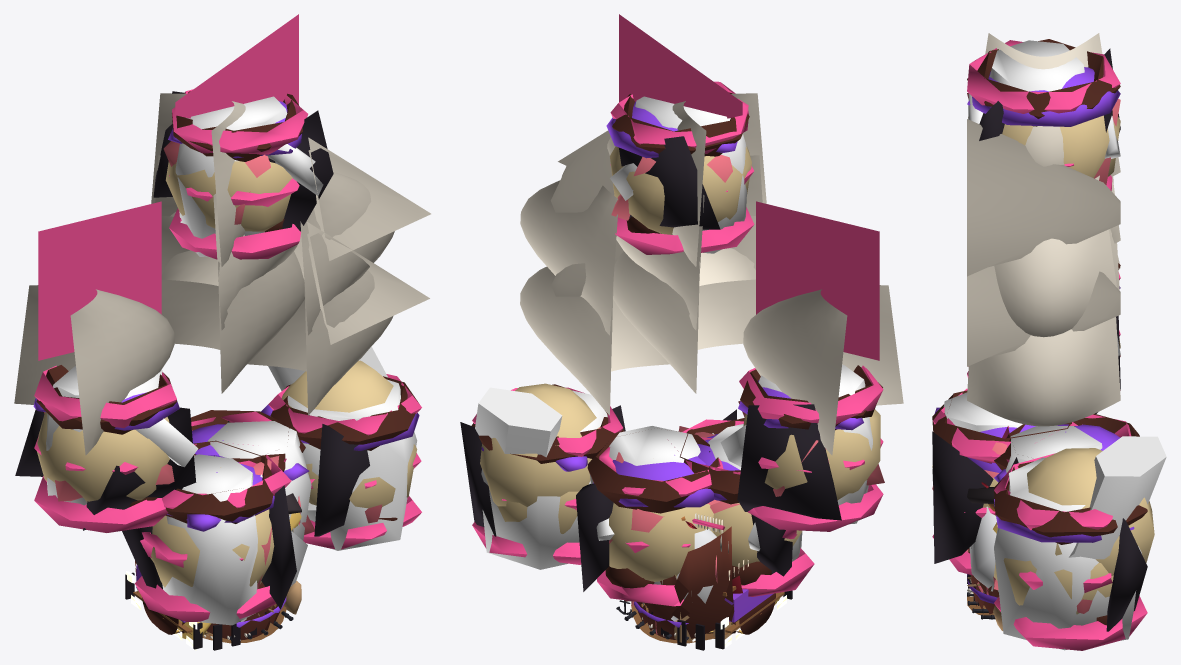
Rendered from navire-barhaw-leger.glb.
The picture shows the model from 3 angles, left to right: view 1: azimuth 30°, elevation 25°; view 2: azimuth 150°, elevation 25°; view 3: azimuth 270°, elevation 25°; orthographic projection. The views are drawn at different scales.
Parts seen in each view (by area): view 1: matelot_corde, matelot_barreur, matelot_vigie, matelot_salut, drapeau.001, voile_artimon, voile_grande.001, voile_misaine.001, matelot_porteur, voile_misaine_hune, flamme.001, navire_corps.001 (+5 smaller); view 2: matelot_barreur, matelot_porteur, matelot_vigie, drapeau.001, voile_artimon, matelot_salut, matelot_salut_bras, navire_corps.001, voile_grande.001, voile_misaine.001, matelot_corde, voile_misaine_hune (+5 smaller); view 3: matelot_salut, matelot_vigie, voile_foc.001, voile_misaine.001, matelot_salut_bras, matelot_corde, voile_misaine_hune, voile_foc2, matelot_porteur, navire_corps.001, voile_perroquet.001.
Part boxes in pixels (x1=…): matelot_corde: x1=122, y1=440, x2=296, y2=625; matelot_barreur: x1=15, y1=365, x2=198, y2=532; matelot_vigie: x1=153, y1=89, x2=333, y2=259; matelot_salut: x1=261, y1=374, x2=421, y2=550; drapeau.001: x1=38, y1=201, x2=161, y2=360; voile_artimon: x1=14, y1=285, x2=174, y2=455; voile_grande.001: x1=161, y1=216, x2=304, y2=393; voile_misaine.001: x1=247, y1=270, x2=393, y2=415; matelot_porteur: x1=191, y1=410, x2=314, y2=540; voile_misaine_hune: x1=300, y1=172, x2=394, y2=335; flamme.001: x1=175, y1=14, x2=298, y2=118; navire_corps.001: x1=125, y1=493, x2=307, y2=650; matelot_barreur: x1=720, y1=364, x2=884, y2=531; matelot_porteur: x1=576, y1=426, x2=723, y2=606; matelot_vigie: x1=606, y1=81, x2=754, y2=254; drapeau.001: x1=756, y1=201, x2=879, y2=360; voile_artimon: x1=743, y1=285, x2=903, y2=455; matelot_salut: x1=460, y1=384, x2=625, y2=569; matelot_salut_bras: x1=475, y1=383, x2=600, y2=506; navire_corps.001: x1=616, y1=513, x2=792, y2=650; voile_grande.001: x1=613, y1=216, x2=755, y2=393; voile_misaine.001: x1=520, y1=266, x2=669, y2=415; matelot_corde: x1=667, y1=409, x2=814, y2=596; voile_misaine_hune: x1=520, y1=180, x2=617, y2=335; matelot_salut: x1=994, y1=453, x2=1147, y2=650; matelot_vigie: x1=967, y1=39, x2=1120, y2=190; voile_foc.001: x1=967, y1=119, x2=1120, y2=276; voile_misaine.001: x1=967, y1=317, x2=1120, y2=426; matelot_salut_bras: x1=1027, y1=436, x2=1166, y2=575; matelot_corde: x1=932, y1=388, x2=1082, y2=575; voile_misaine_hune: x1=994, y1=175, x2=1116, y2=337; voile_foc2: x1=967, y1=266, x2=1120, y2=366; matelot_porteur: x1=994, y1=413, x2=1139, y2=482; navire_corps.001: x1=967, y1=482, x2=1002, y2=630; voile_perroquet.001: x1=985, y1=33, x2=1120, y2=176.
Size of the model in its own units: 6.2 by 9 by 3.05.
